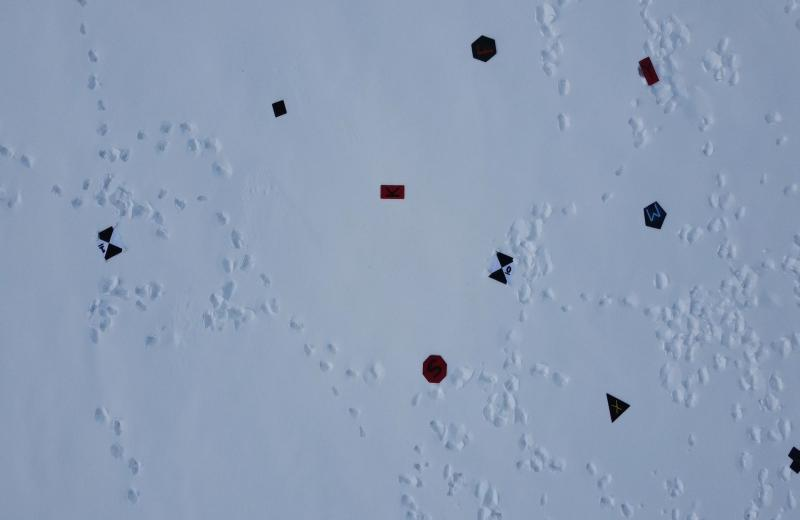Cross: (786, 443, 800, 475)
Hexagon: (469, 35, 502, 64)
Octagon: (420, 352, 449, 386)
Pentagon: (641, 196, 669, 229)
Rectangle: (374, 175, 408, 207), (636, 55, 660, 87)
Square: (270, 100, 290, 120)
Triangle: (602, 386, 633, 424)
